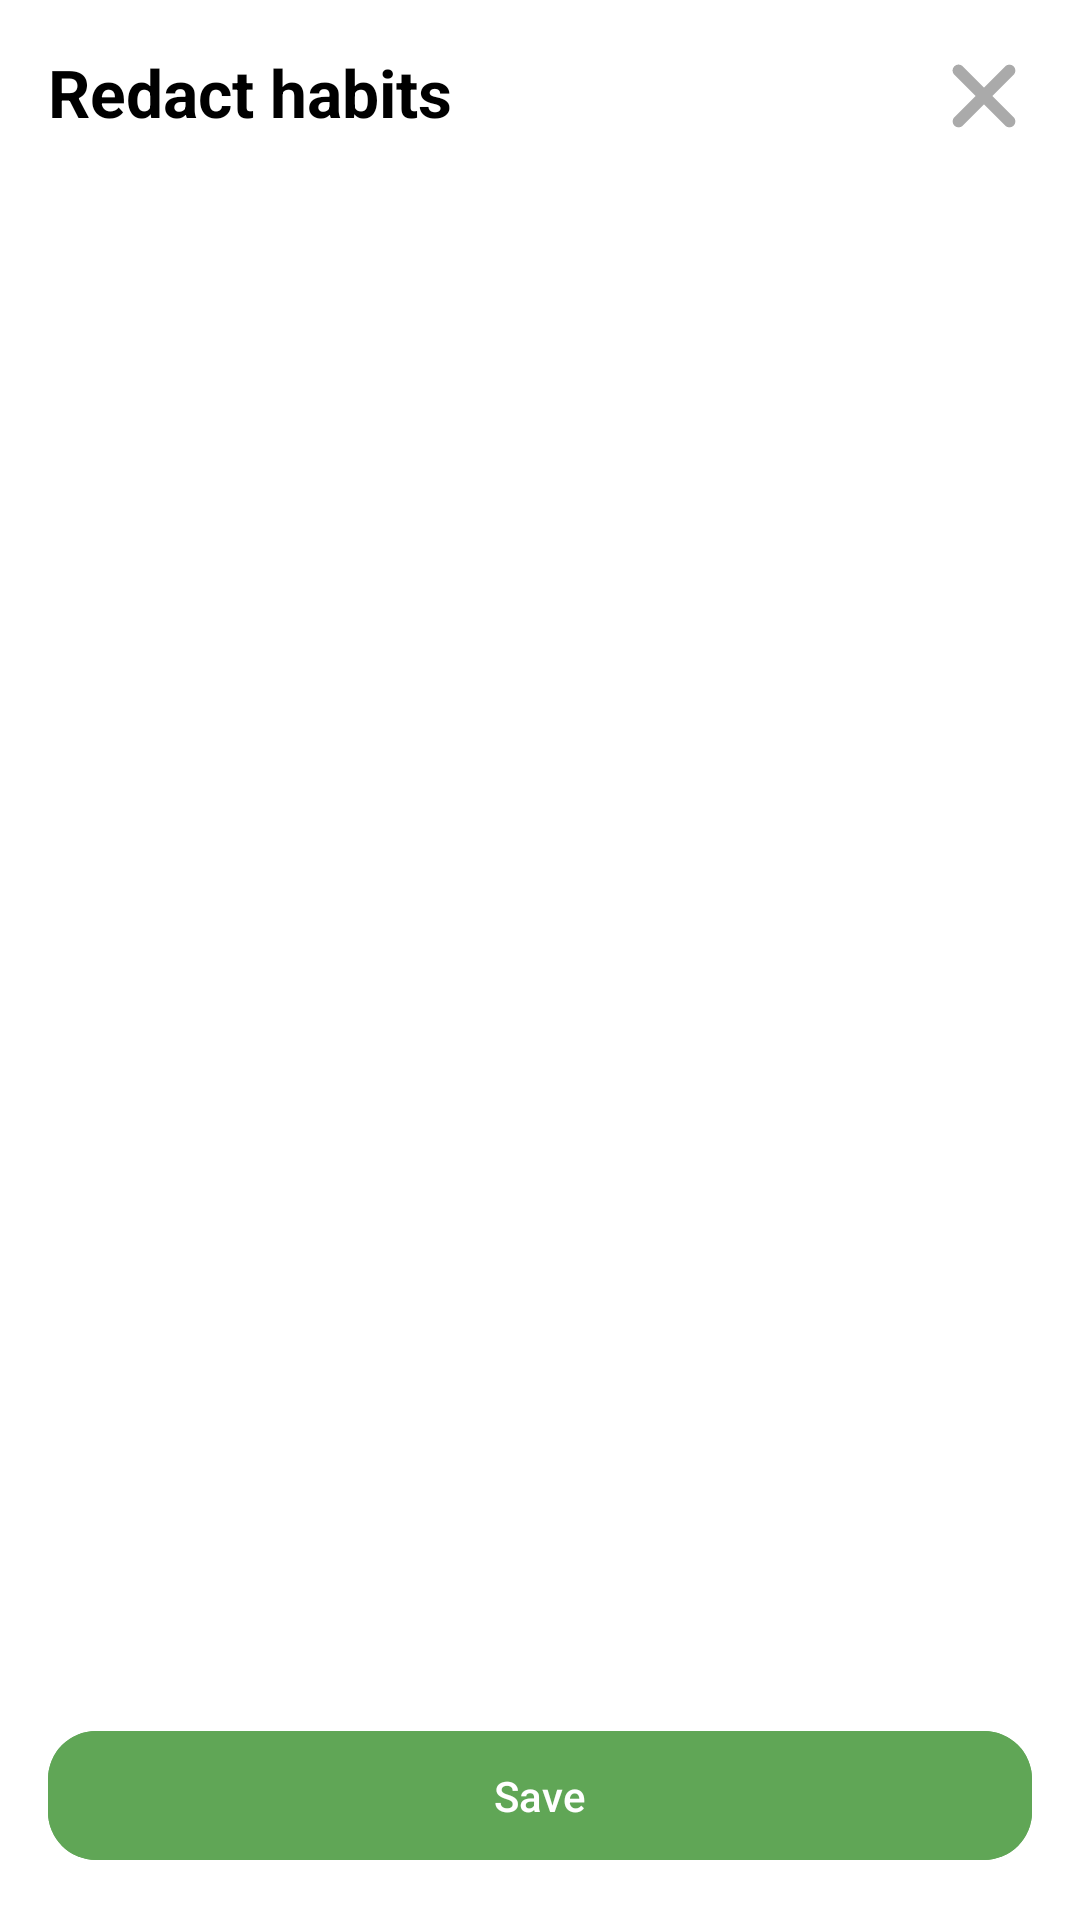

Screen size 1080×1920. Icon name, then its center in pixels as point (x, y):
close: point (984, 96)
